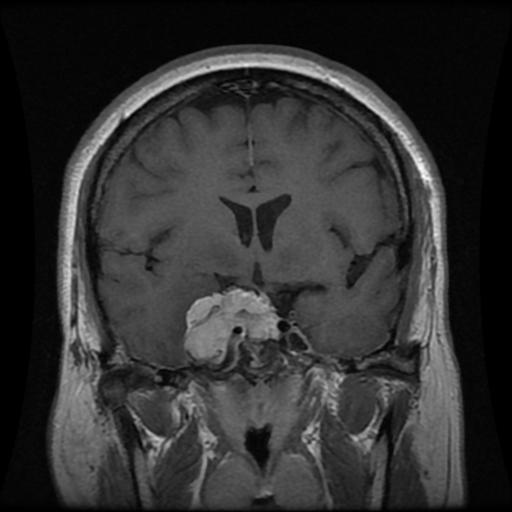Menigiomia_tumour: (183, 286, 279, 365)
